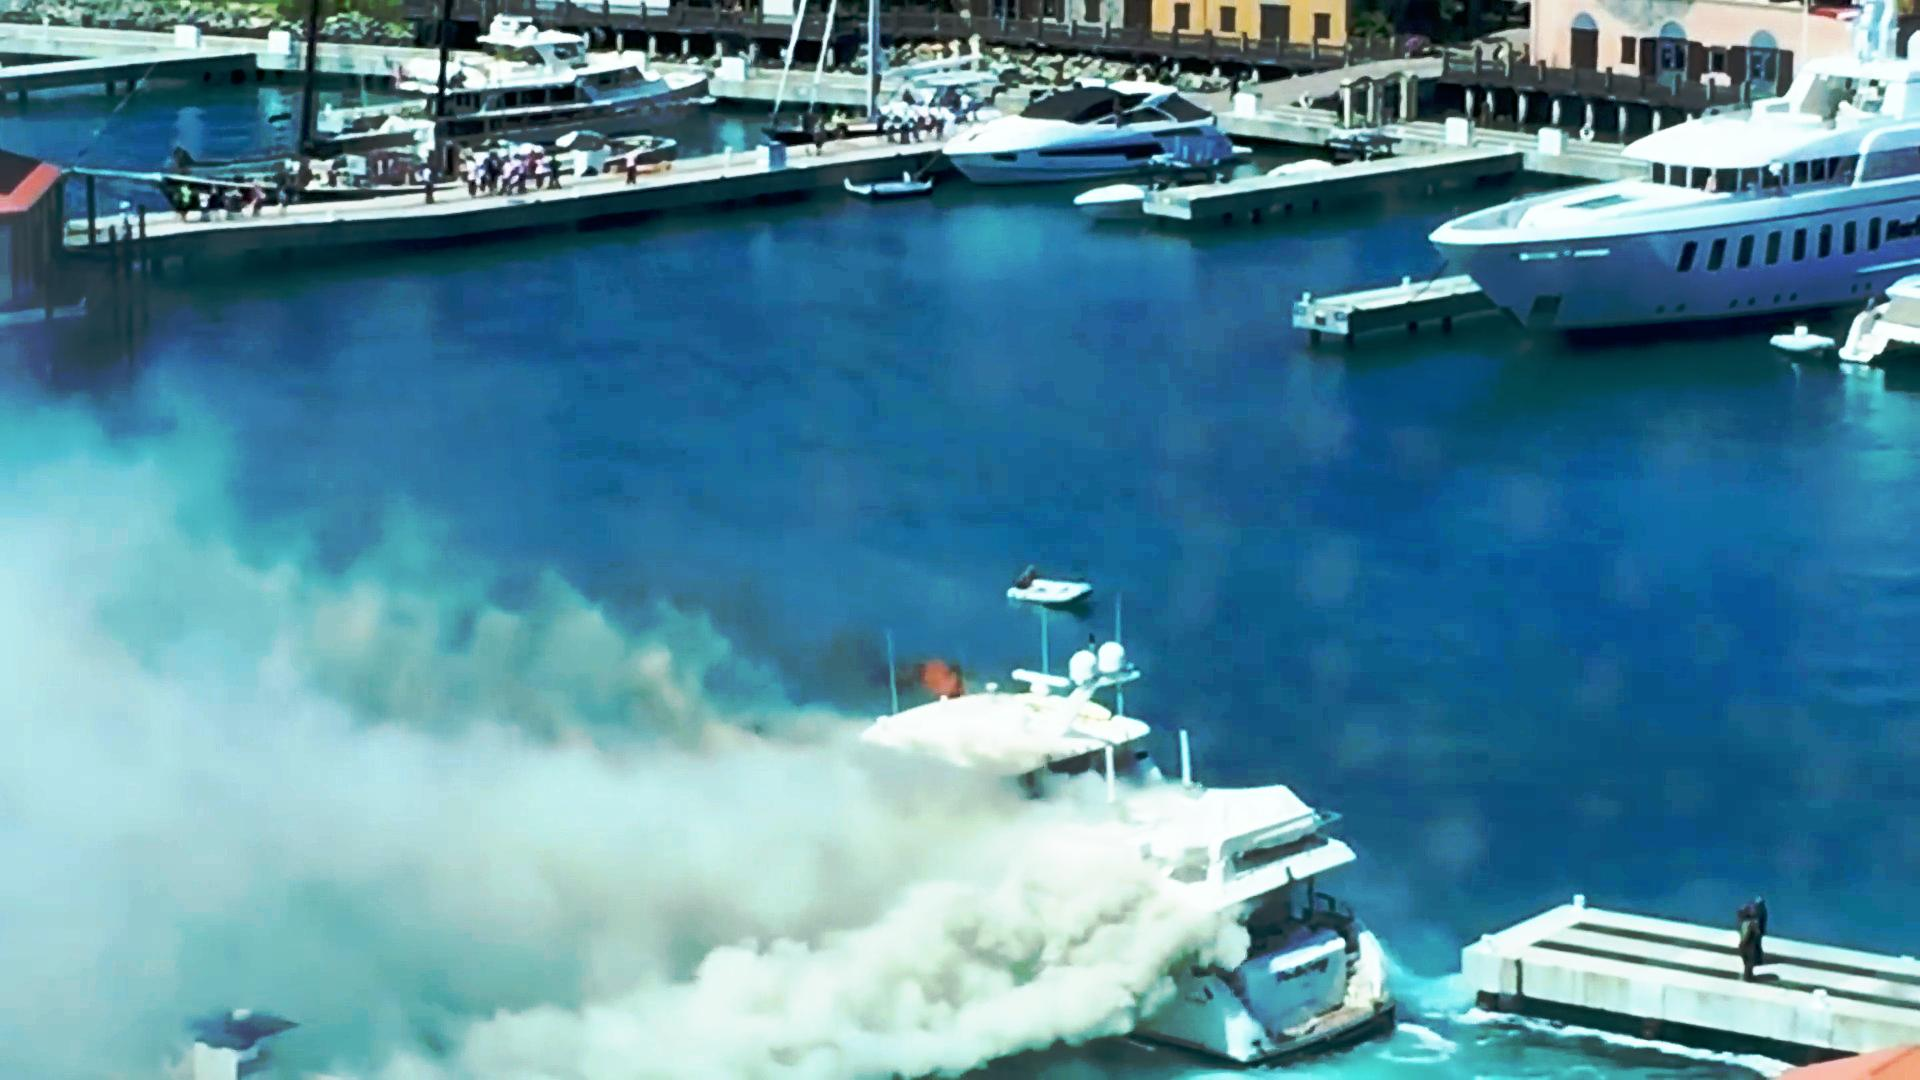smoke: (269, 568, 786, 1080), (0, 488, 401, 1080), (775, 766, 1121, 1033)
